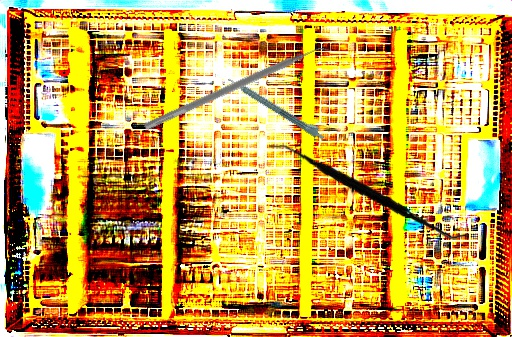Handpiece: (226, 72, 328, 142)
Spatula Surgical: (268, 125, 469, 256), (142, 37, 335, 140)
